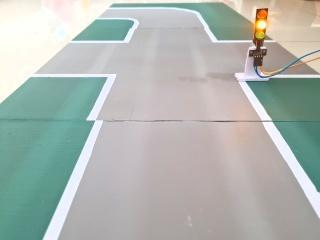yellow: (243, 2, 278, 49)
